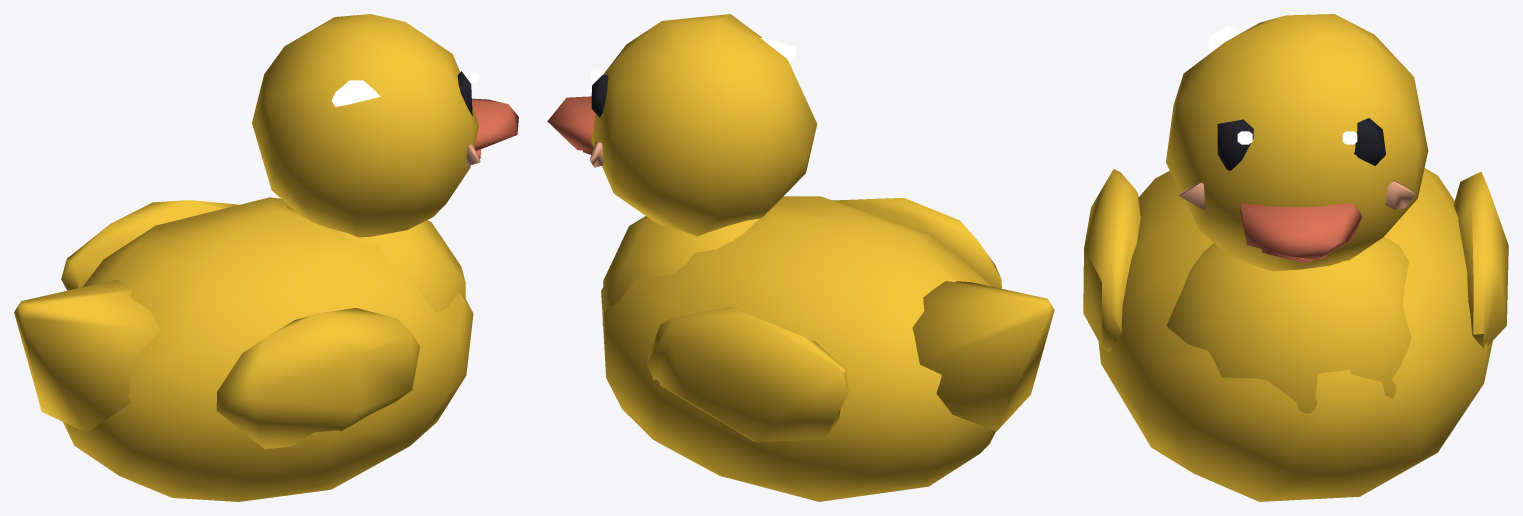
Rendered from rubber_duck.glb.
3 views of the same model, side by side, from view 1: azimuth 30°, elevation 25°; view 2: azimuth 150°, elevation 25°; view 3: azimuth 270°, elevation 25° (orthographic). The views are drawn at different scales.
Visible parts, largest first — view 1: rubber_duck; view 2: rubber_duck; view 3: rubber_duck.
Boxes of the visible parts, box(x1,y1,x2,y2) form: rubber_duck: box(14, 14, 518, 501); rubber_duck: box(547, 14, 1054, 501); rubber_duck: box(1083, 14, 1508, 501).
Bounding box in the file's own units: 1.42 × 1.17 × 0.8931.
Materials: 1 (1 with a texture image).
